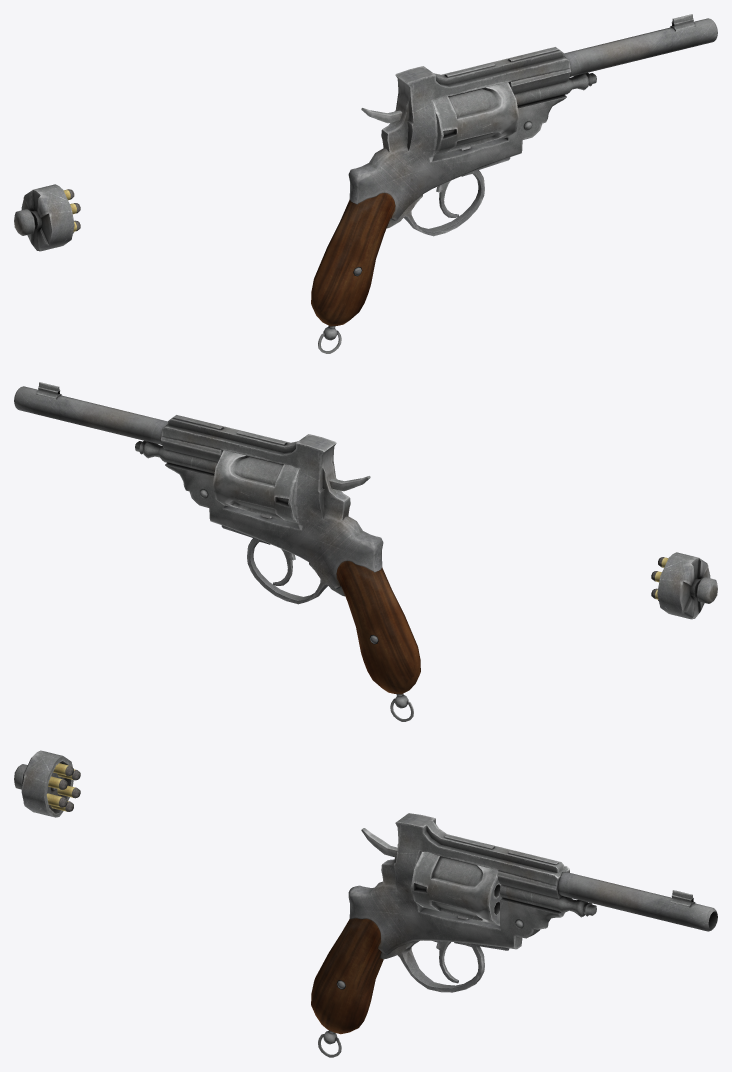
Rendered from old-revolver__Old_Revolver__Revolver.glb.
3 renders of one model, top to bottom at view 1: azimuth 30°, elevation 25°; view 2: azimuth 150°, elevation 25°; view 3: azimuth 330°, elevation 25°, orthographic.
Visible parts, largest first — view 1: Revolver; view 2: Revolver; view 3: Revolver.
Part boxes in pixels (left/top/right/bottom): Revolver: left=14, top=14, right=717, bottom=353; Revolver: left=14, top=382, right=717, bottom=721; Revolver: left=14, top=750, right=717, bottom=1057.
Bounding box in the file's own units: 8.27 × 2.94 × 0.6341.
1 material, 1 textured.
